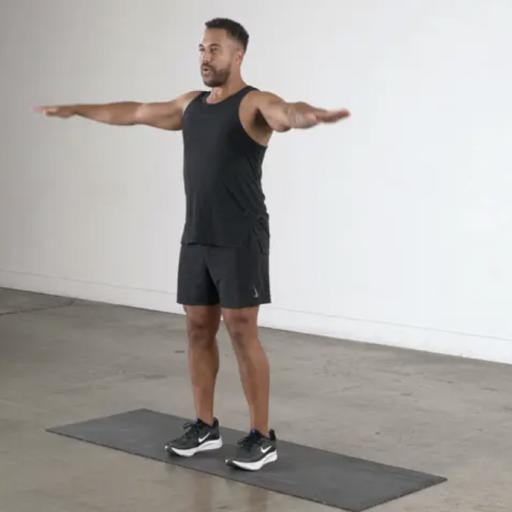Normal_Dips: (9, 0, 368, 466)
Normal_PullUps: (4, 0, 375, 487)
